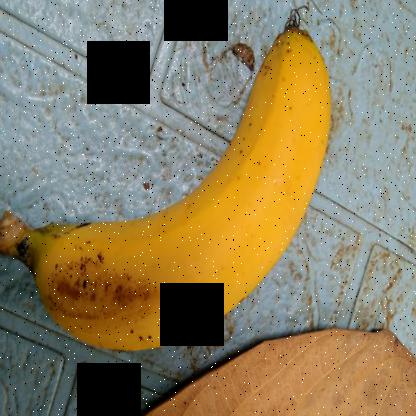freshripe: (30, 28, 338, 362)
